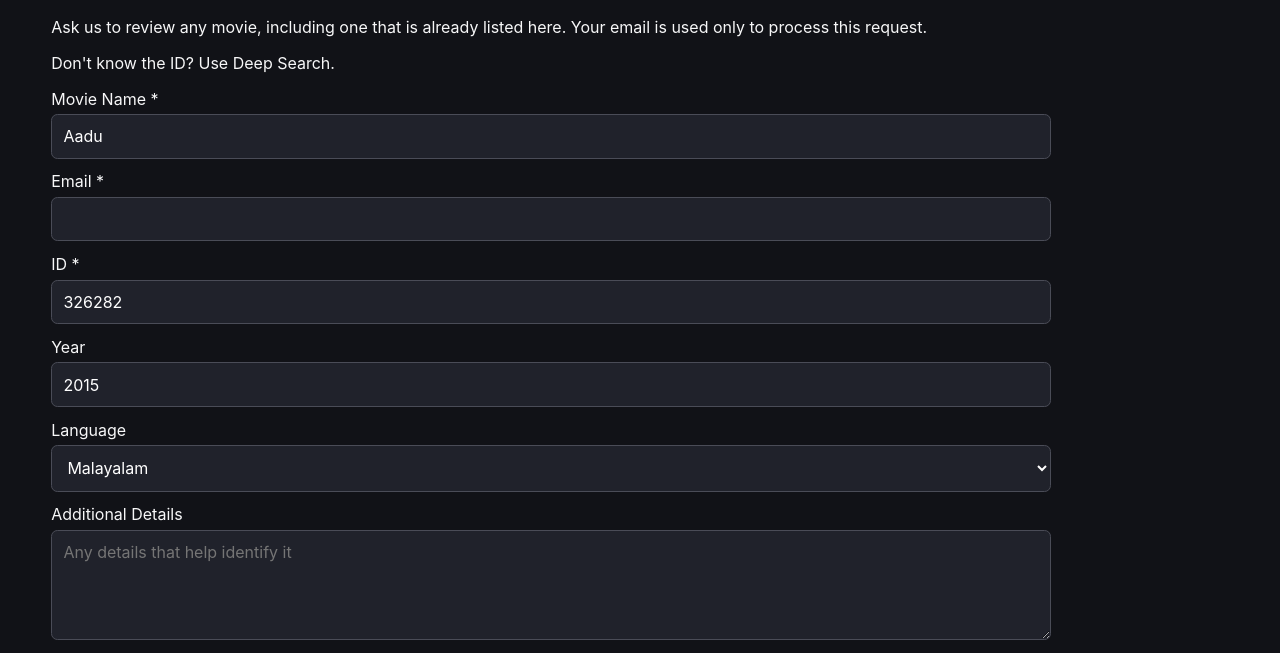
Test case: requires the external movie ID and preserves Deep Search prefills
The image size is (1280, 653).
Expected: the field labelled "Movie Name *" holds "Aadu", [51,114,1051,159]
Expected: the number field labelled "ID *" holds "326282", [51,280,1051,324]
Step 1. Type "viewer@example.com" into the field labelled "Email *" → [551, 219], box [51,197,1051,241]
(page scrolled)
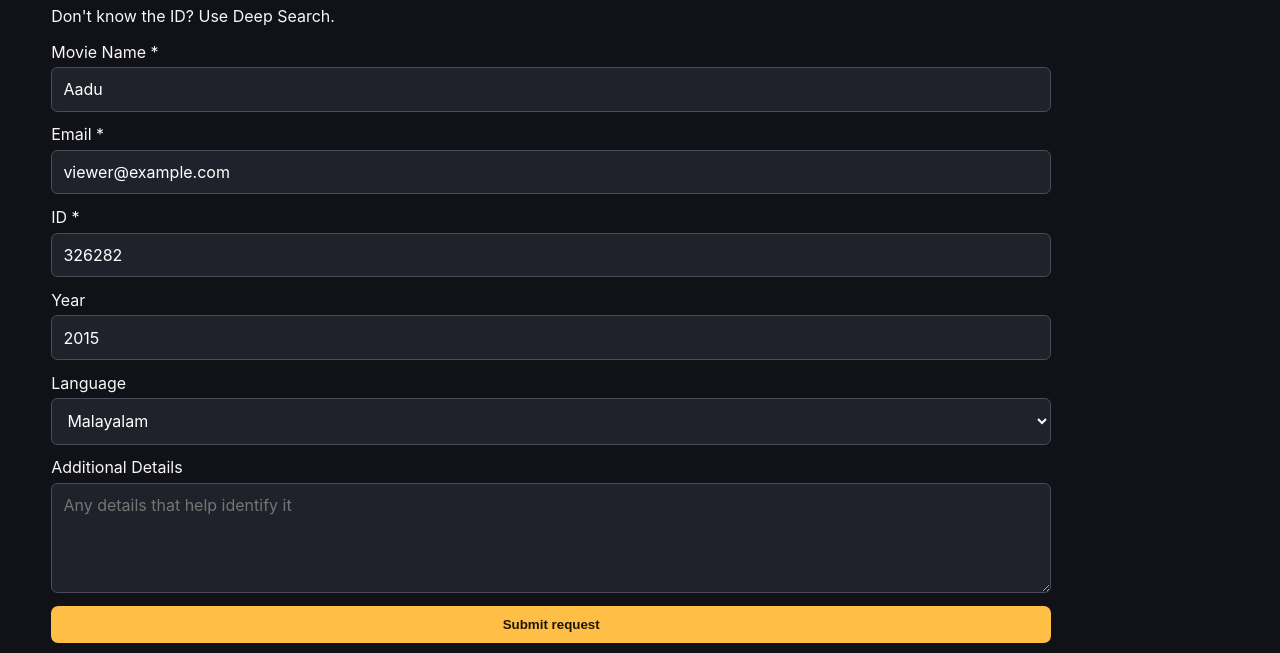
Step 2. Click the button "Submit request" → [551, 624], box [51,606,1051,643]
(page scrolled)
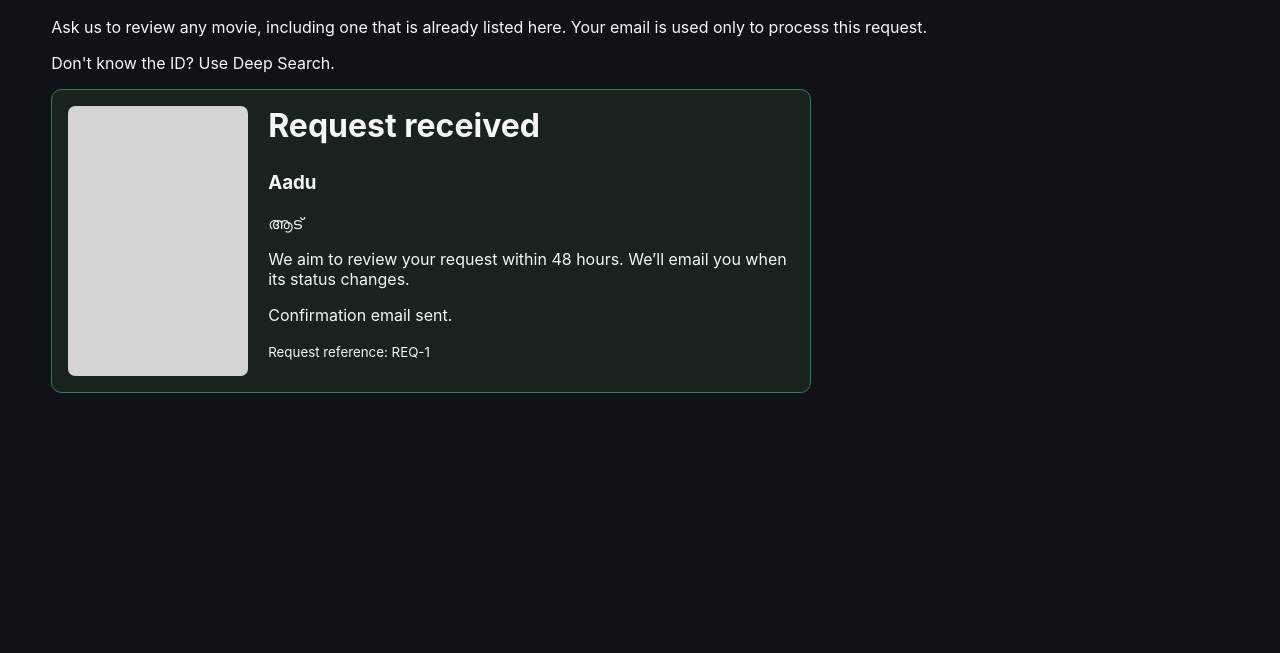
Expected: the heading "Request received" is shown, [268,106,540,145]
Expected: the text "aim to review your request within 48 hours" is shown, [268,249,787,289]
Expected: the text "Confirmation email sent." is shown, [268,305,452,325]
